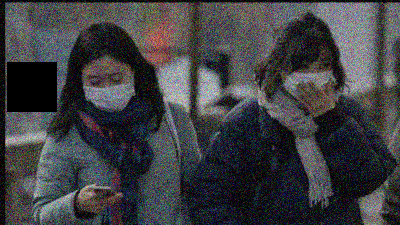with_mask: (282, 55, 334, 101), (82, 68, 135, 110)
